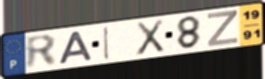8: (175, 15, 203, 51)
A: (56, 30, 95, 66)
I: (103, 25, 111, 62)
R: (24, 33, 59, 71)
X: (134, 18, 166, 57)
Z: (206, 9, 240, 48)
